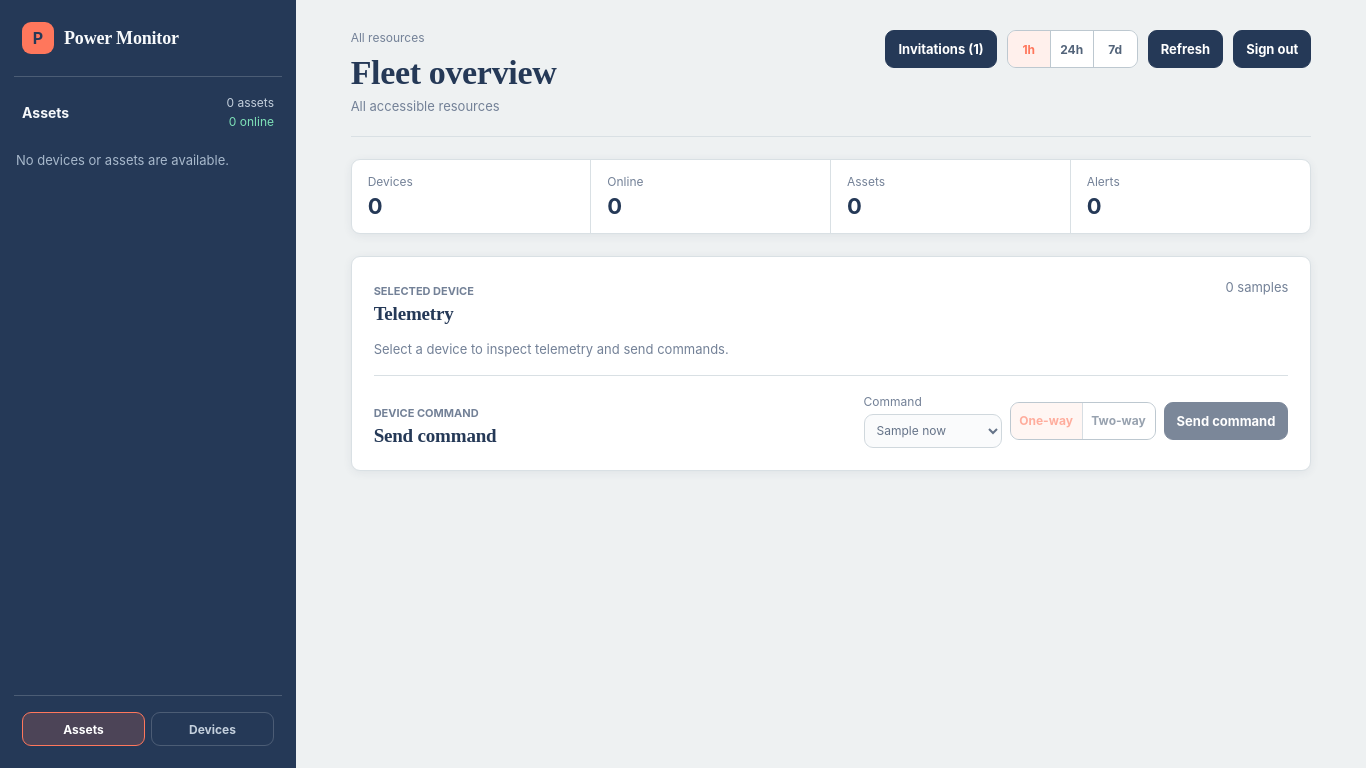
PowerMonitor dashboard › refreshes invitations after a decline to invalidate an in-flight workspace read
The image size is (1366, 768).
Click the button "Invitations (1)".
click(941, 49)  # box x1=885 y1=30 x2=997 y2=68
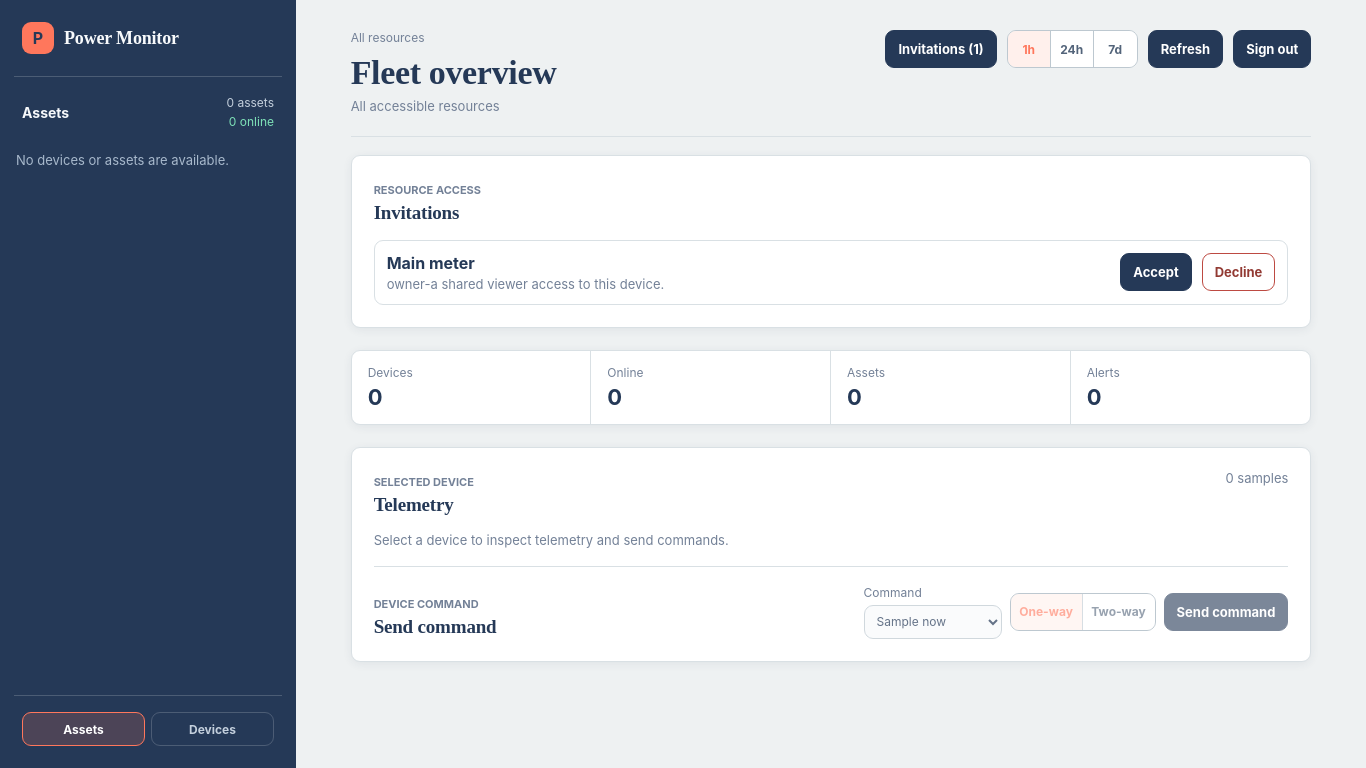
Click the button with aria-label "Decline invitation for Main meter".
click(1239, 272)  # box x1=1202 y1=253 x2=1275 y2=291
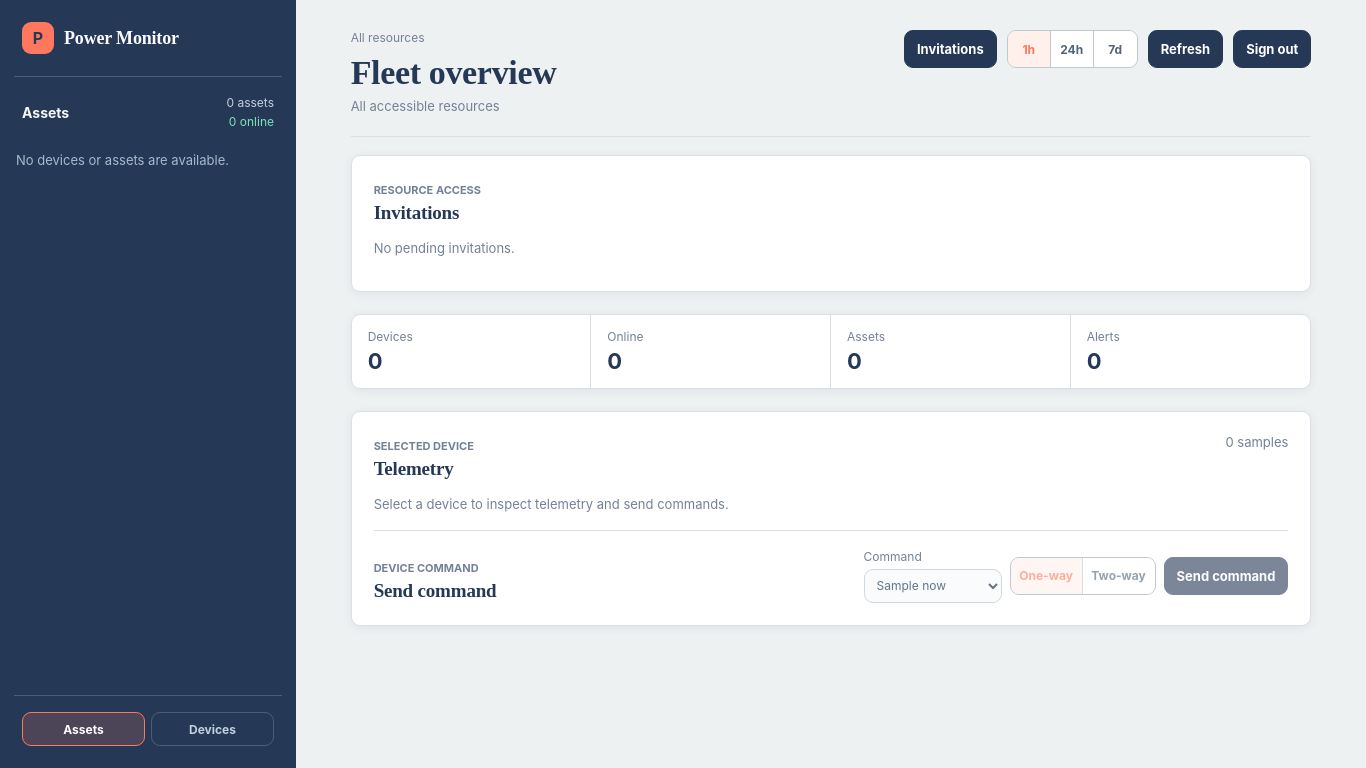
Check: the text "Main meter" is gone
